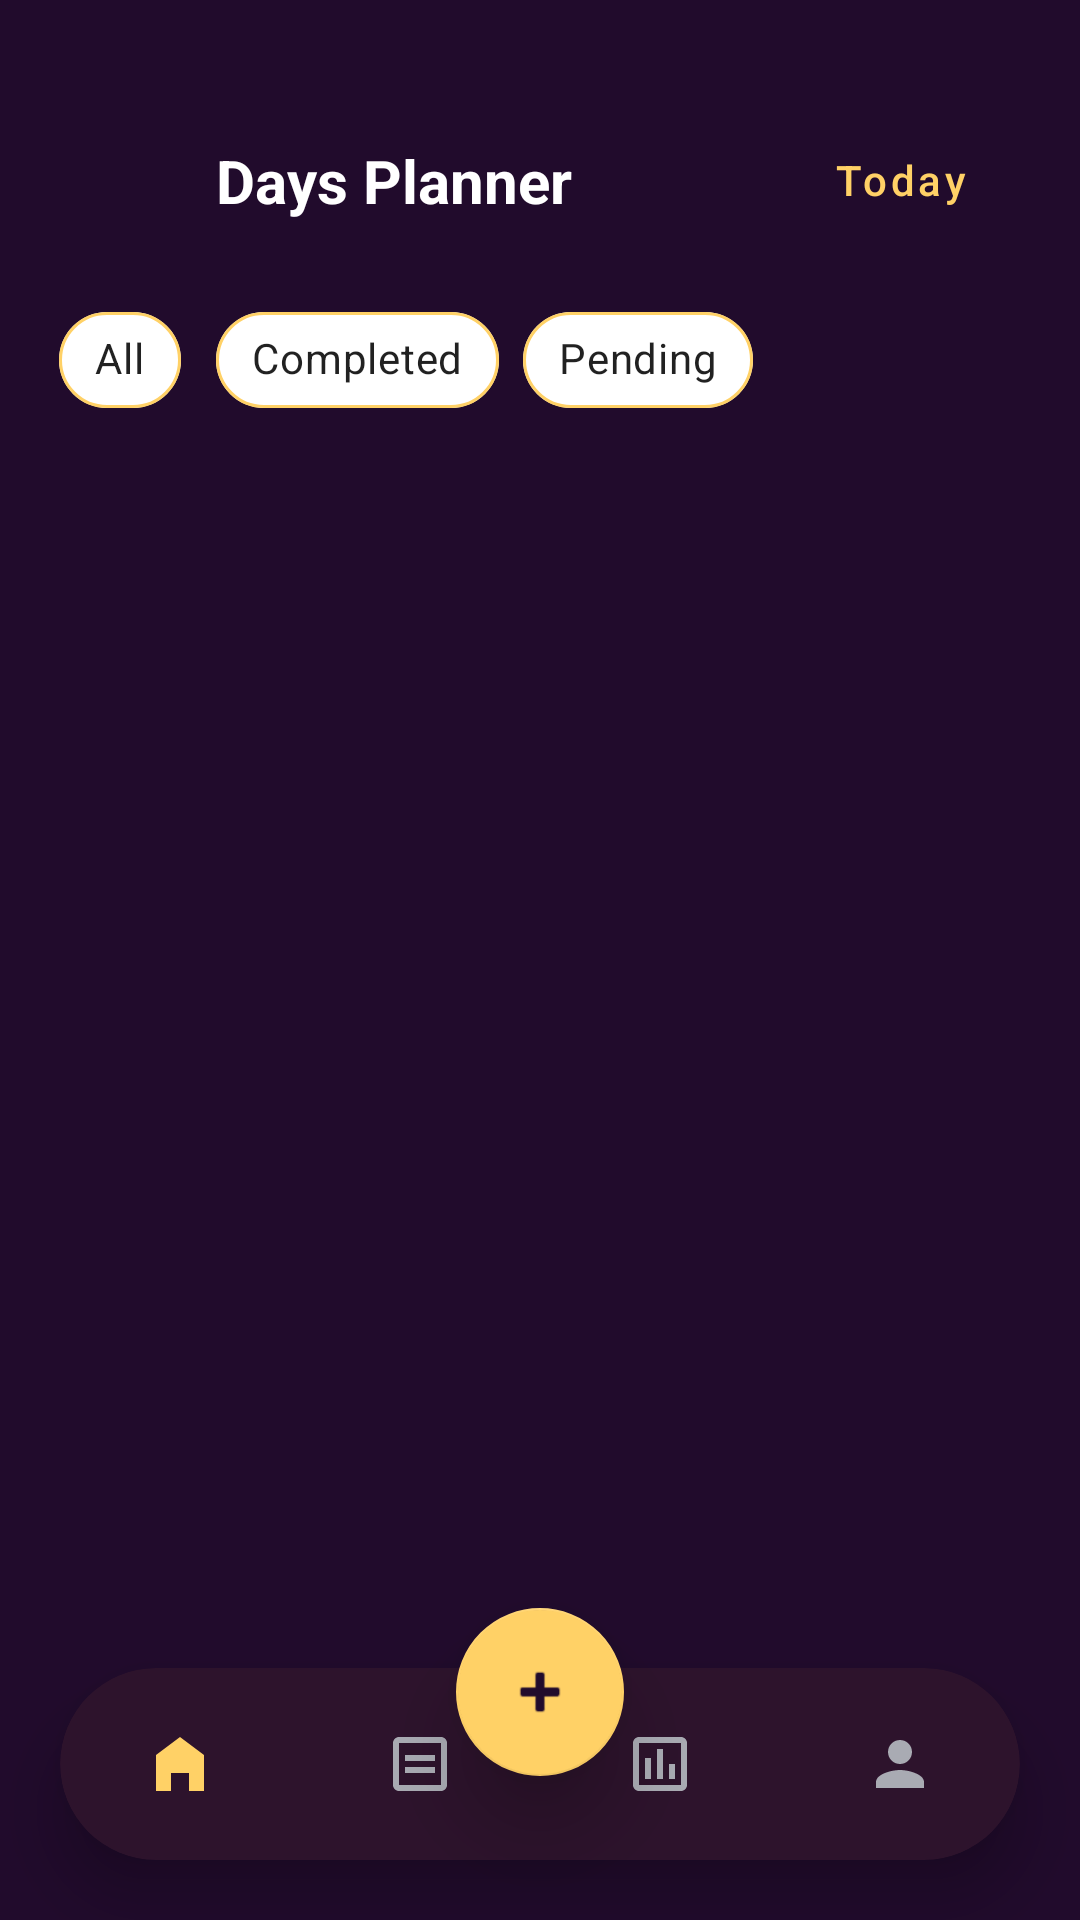

Point at icon controls on the screen. Image size 1080px×1920px, points as (x=x, y=y).
Add Task: (x=540, y=1692)
